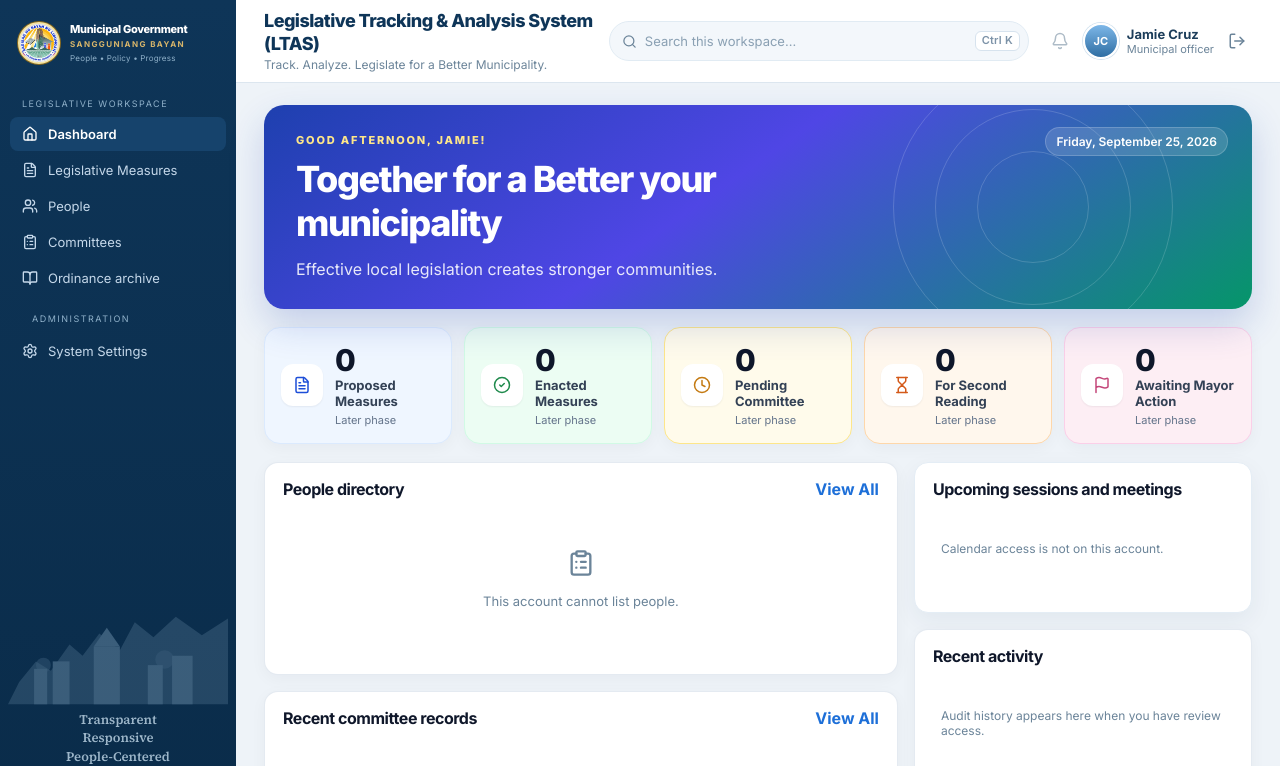
Test case: workspace boundaries › opens a direct ordinance encoding form without a legislative measure
Click the button "Ordinance archive". click: x=118, y=278
box: x1=10 y1=261 x2=226 y2=295
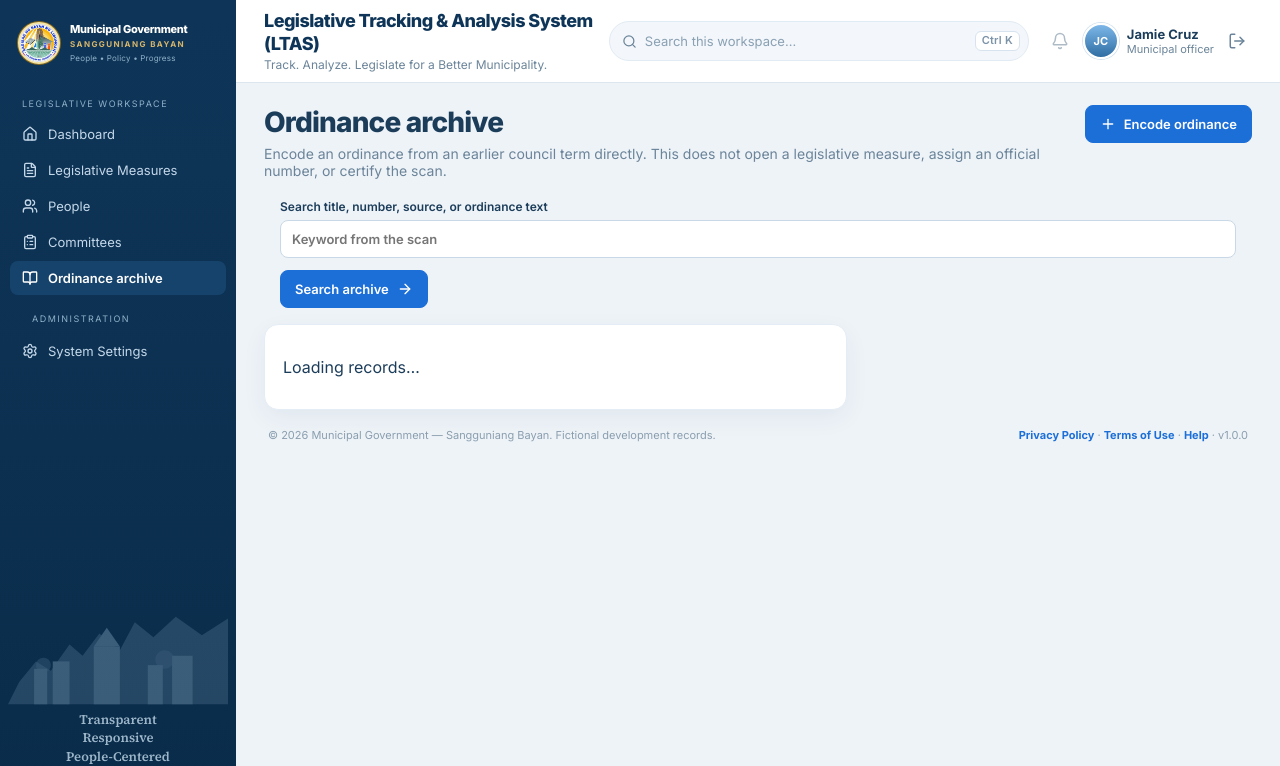
Now the heading "Ordinance archive" is shown, box x1=264 y1=105 x2=503 y2=139
Now the text "does not open a legislative measure" is shown, box x1=264 y1=145 x2=1040 y2=179
Click the button "Encode ordinance". click: x=1168, y=124
box: x1=1085 y1=105 x2=1252 y2=143
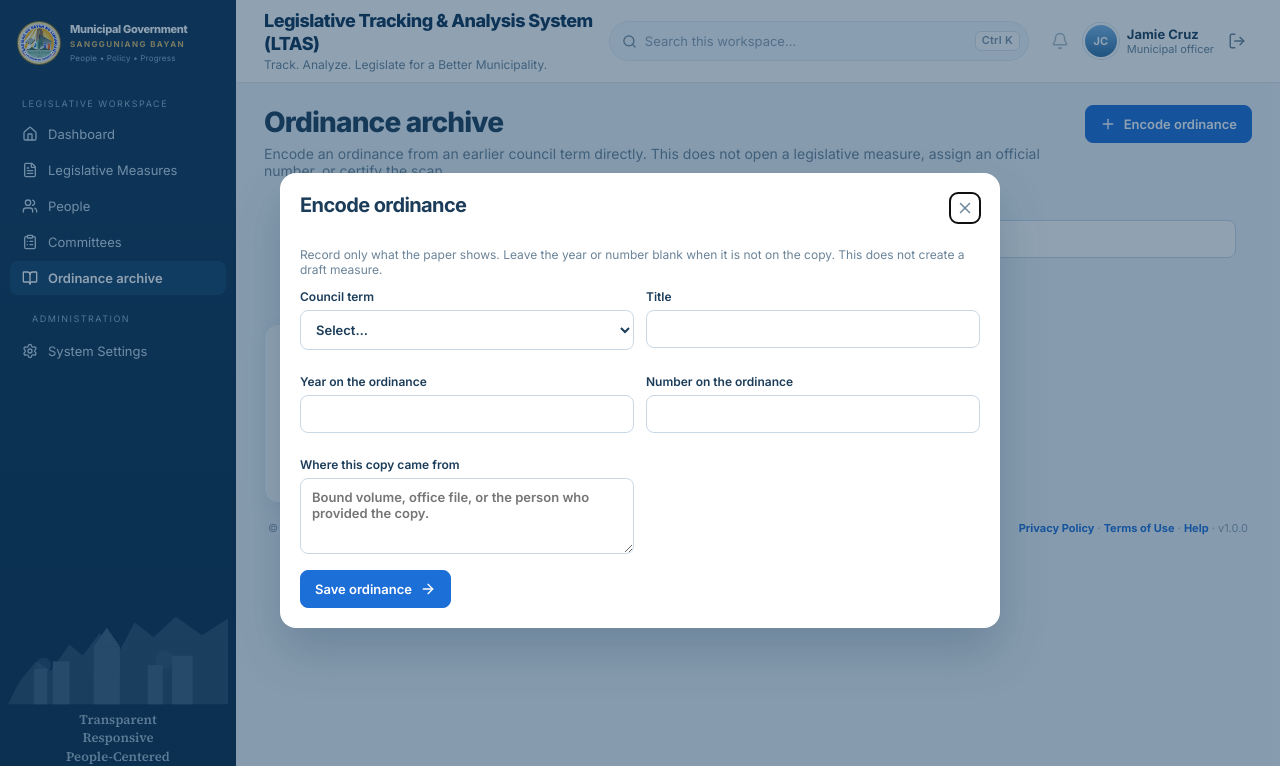
Now the dialog "Encode ordinance" is shown, box x1=280 y1=172 x2=1000 y2=628
Now the dropdown labelled "Council term" is shown, box x1=300 y1=310 x2=634 y2=350
Now the field labelled "Title" is shown, box x1=646 y1=310 x2=980 y2=348
Click the button named "Close". click: x=965, y=208
box: x1=950 y1=192 x2=980 y2=222
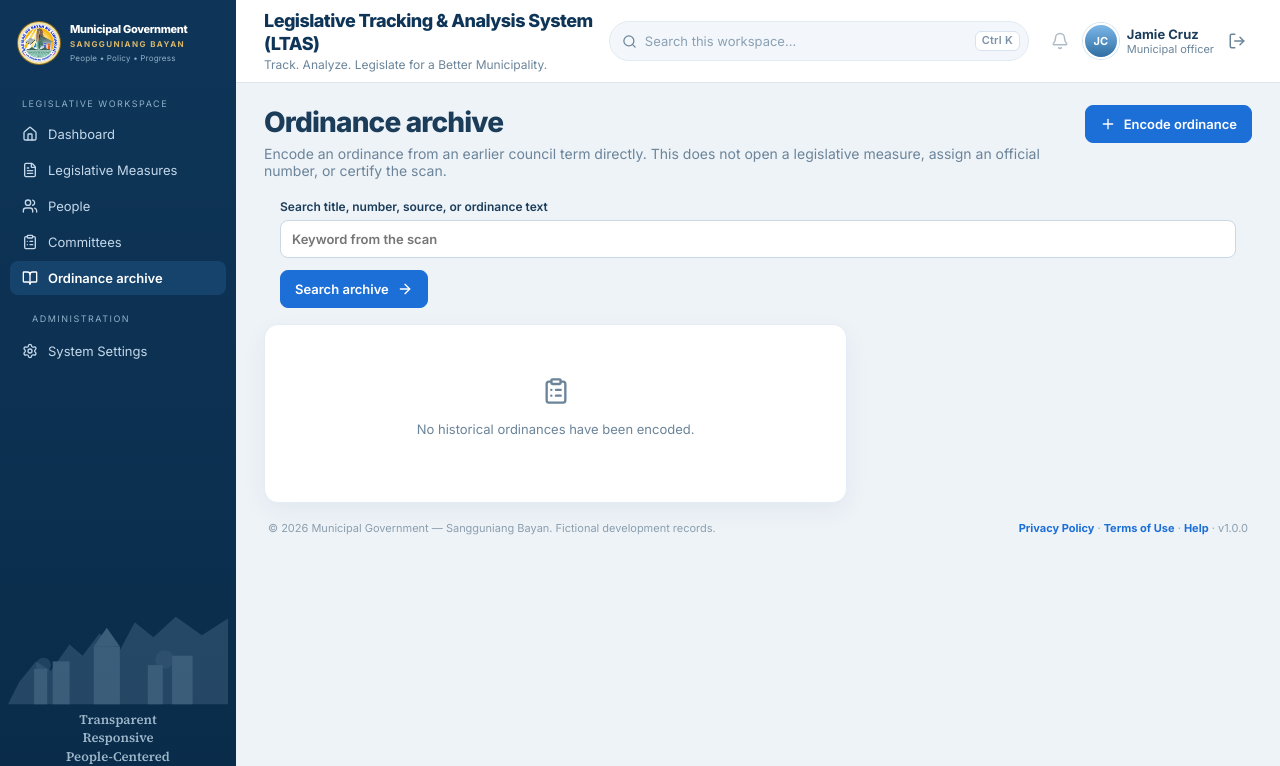
Now the dialog is gone
